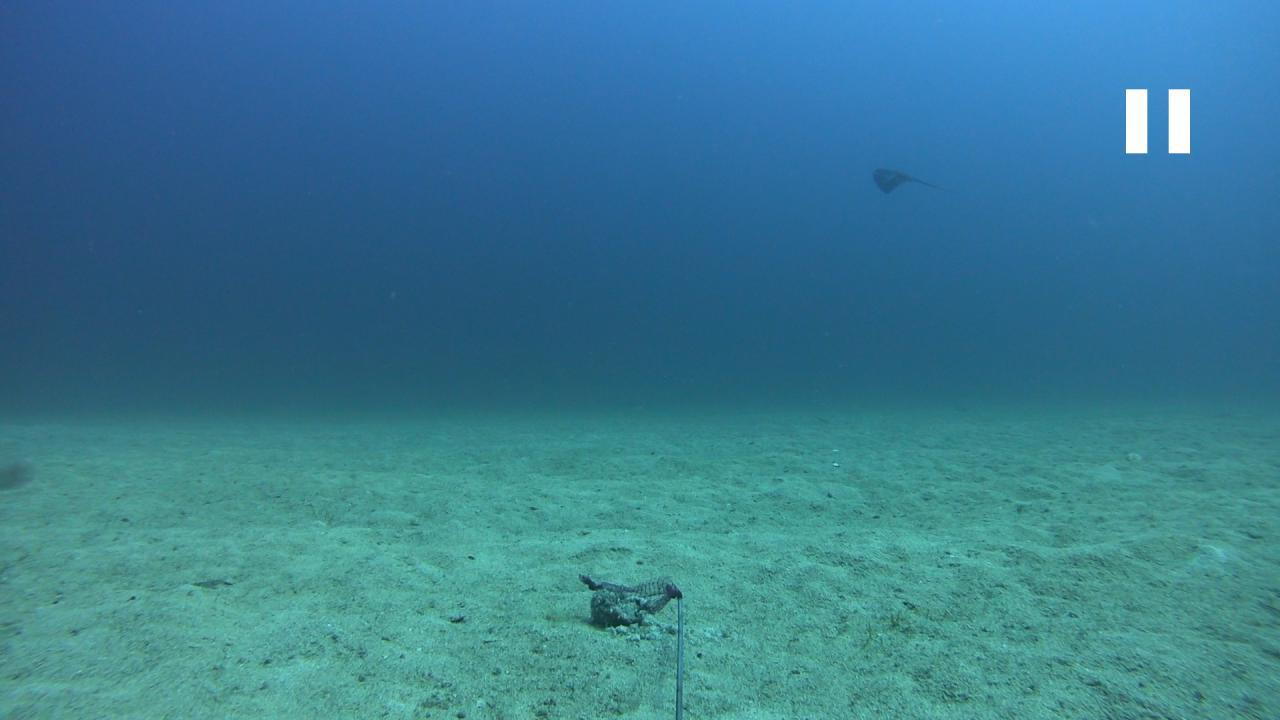dasyatis: (870, 166, 939, 194)
